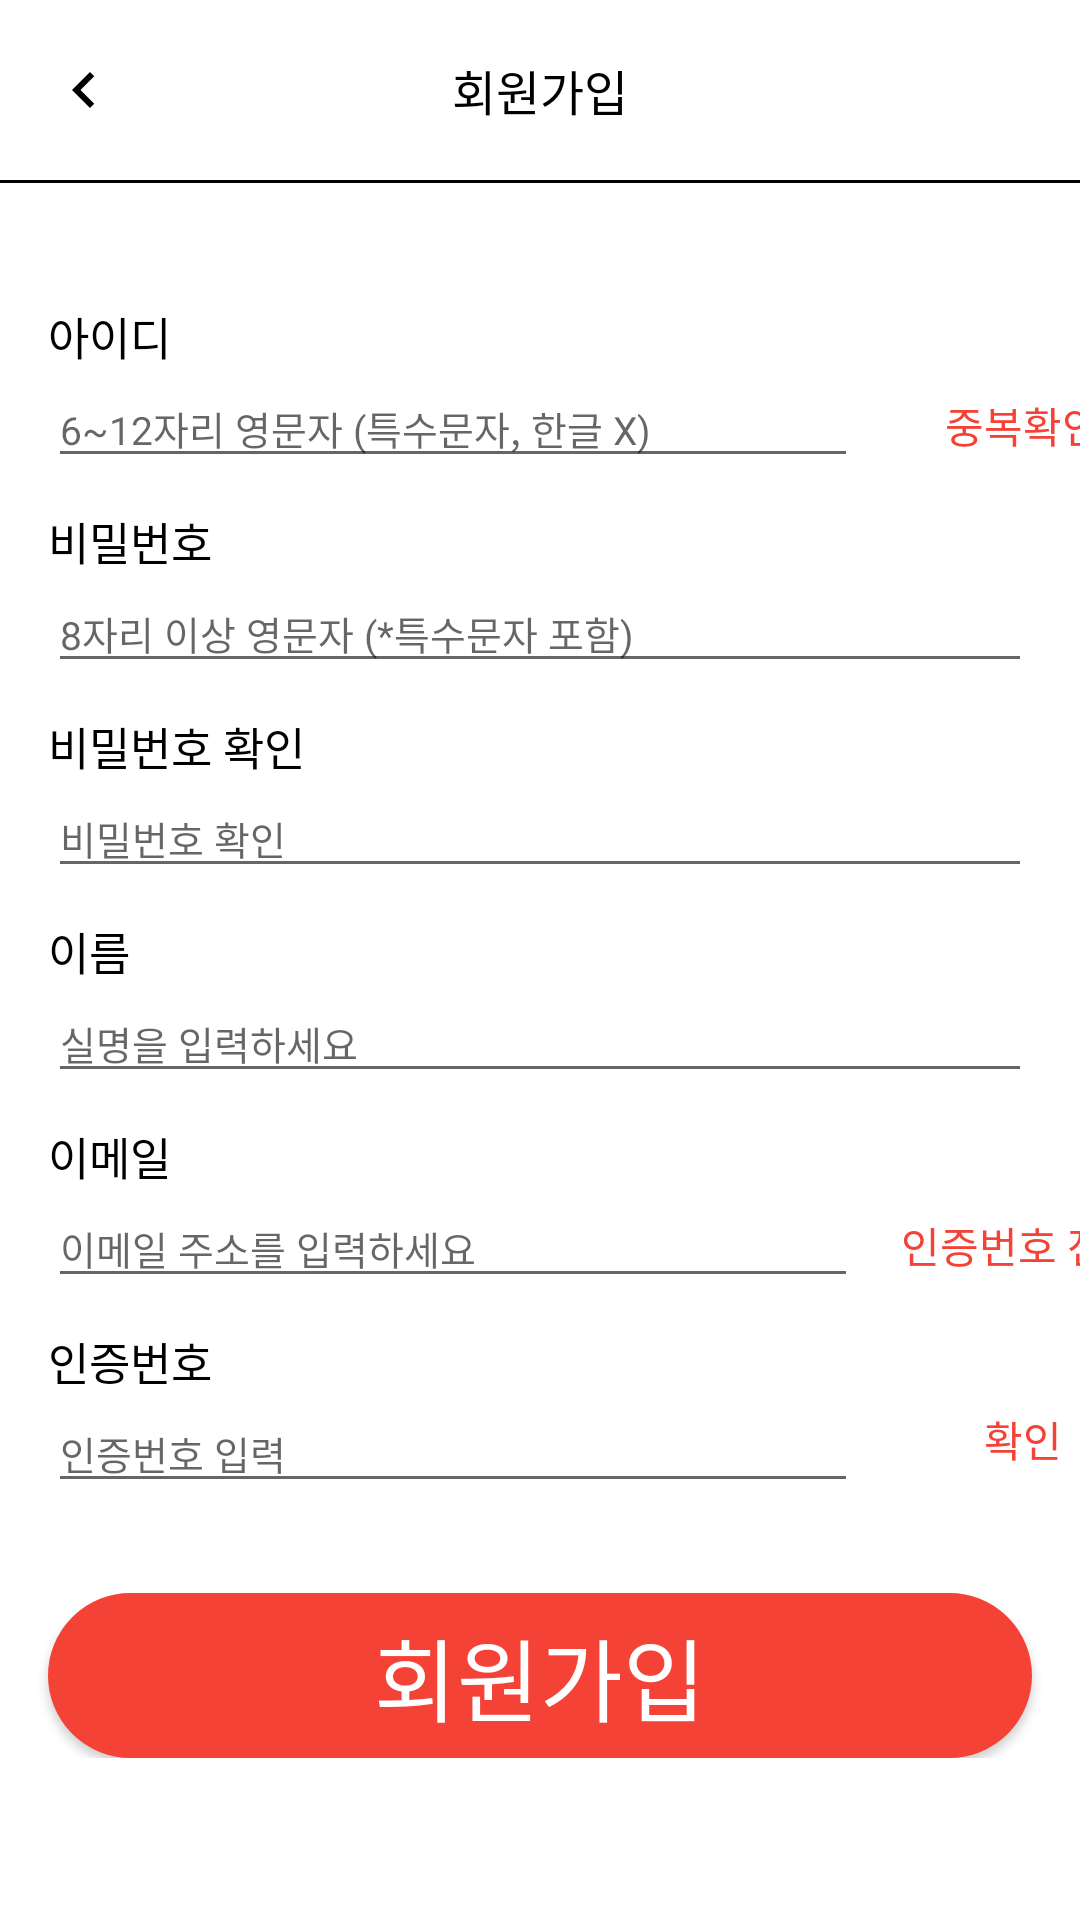

Icons on this 1080 × 1920 Android screen, each with the point to tap as (x,y):
left arrow: (83,90)
